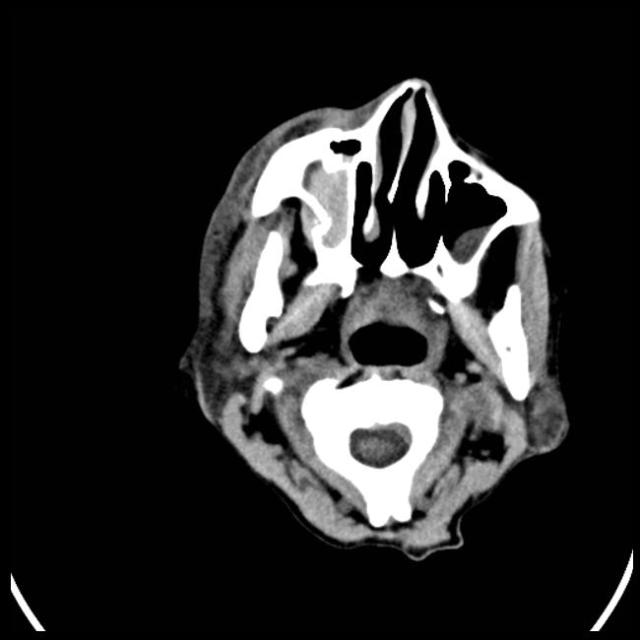lesion: (175, 74, 575, 564)
